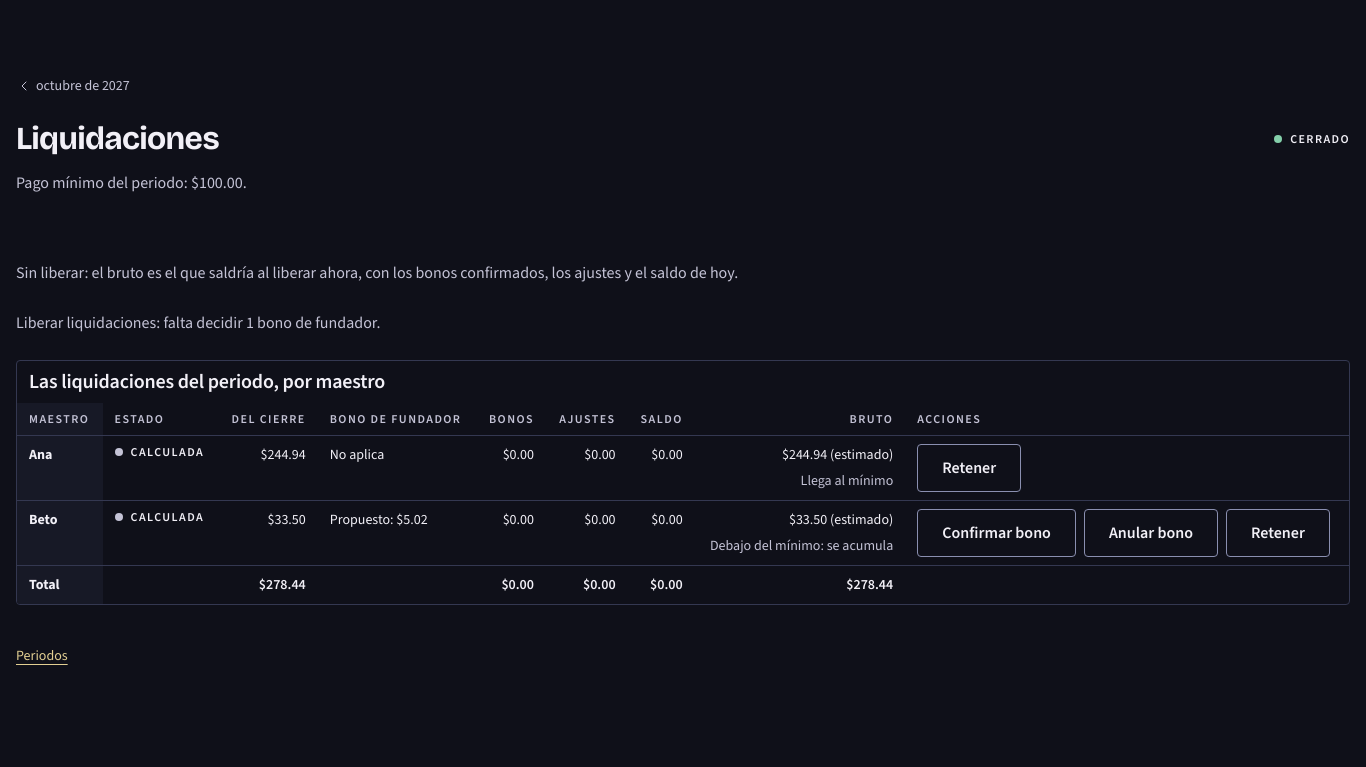
Test: PA-81, las liquidaciones del periodo › con un bono de fundador por decidir, «Liberar» no se ofrece; el bono se confirma o se anula desde su fila
The image size is (1366, 767).
Expected: the text "Liberar liquidaciones: falta decidir 1 bono de fundador." is shown, top-left (16, 312), bottom-right (380, 333)
Click the button "Anular bono": (1151, 533) top-left (1084, 509), bottom-right (1218, 557)
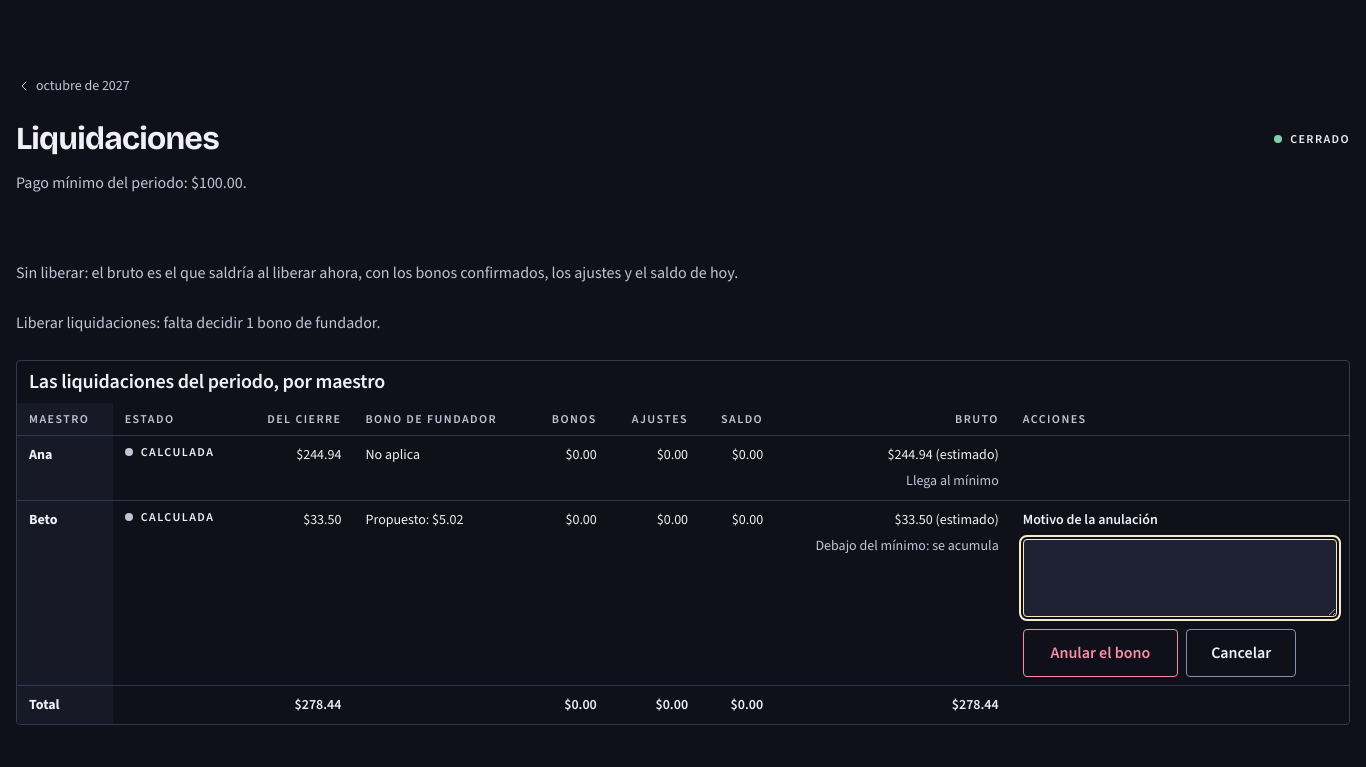
Now the text box labelled "Motivo de la anulación" is shown, box top-left (1023, 539), bottom-right (1337, 617)
